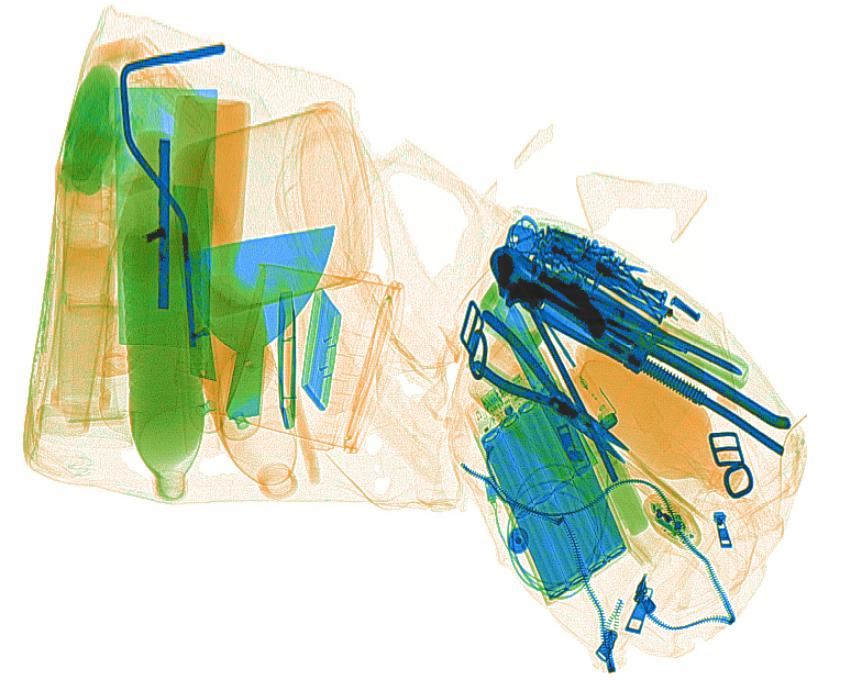battery: (462, 358, 633, 607)
knife: (491, 289, 598, 477)
